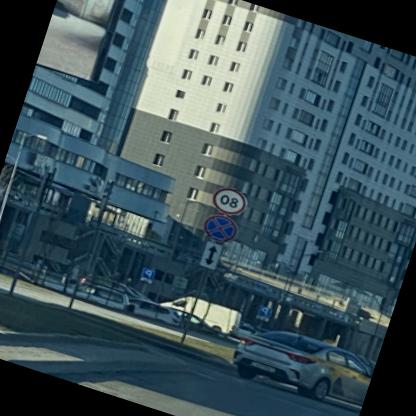speedlimit: (211, 184, 252, 218)
